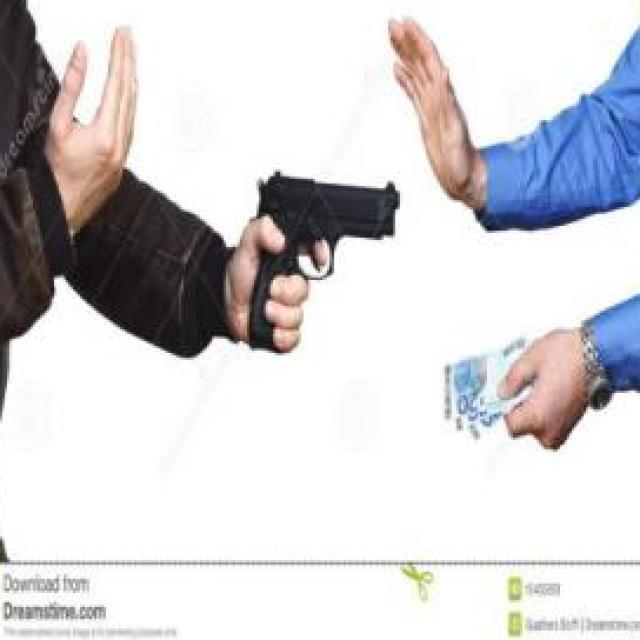pistol: (250, 162, 402, 356)
